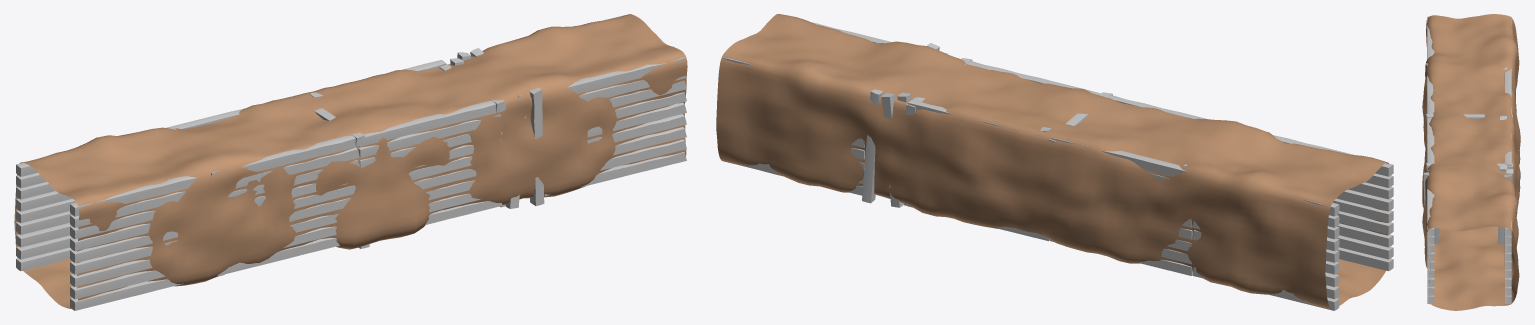
Rendered from asset-v6.fbx.
3 renders of one model, left to right at view 1: azimuth 30°, elevation 25°; view 2: azimuth 150°, elevation 25°; view 3: azimuth 270°, elevation 25°, orthographic. The views are drawn at different scales.
Visible parts, largest first — view 1: Cube, lankku1.018, lankku1.027, lankku1.036, lankku1.017, lankku1.028, lankku1.009, lankku1, lankku1.029, lankku1.032, lankku1.031, lankku1.019 (+28 smaller); view 2: Cube, lankku1.062, lankku1.091, lankku1.029, lankku1.032, lankku1.030, lankku1.028, lankku1.031, lankku1.033, lankku1.018; view 3: Cube, lankku1.018, lankku1.009, lankku1.027, lankku1.062, lankku1.075, lankku1.036, lankku1.074, lankku1.053, lankku1.088, lankku1.076.
Part boxes in pixels (bbox=[...]): Cube: bbox=[14, 14, 687, 308]; lankku1.018: bbox=[359, 100, 502, 146]; lankku1.027: bbox=[241, 135, 359, 171]; lankku1.036: bbox=[70, 176, 197, 216]; lankku1.017: bbox=[358, 114, 500, 158]; lankku1.028: bbox=[70, 279, 183, 310]; lankku1.009: bbox=[566, 57, 684, 93]; lankku1: bbox=[544, 152, 686, 196]; lankku1.029: bbox=[70, 270, 164, 299]; lankku1.032: bbox=[70, 231, 177, 262]; lankku1.031: bbox=[70, 240, 177, 274]; lankku1.019: bbox=[217, 238, 339, 275]; Cube: bbox=[716, 14, 1388, 308]; lankku1.062: bbox=[1051, 137, 1187, 176]; lankku1.091: bbox=[862, 89, 883, 203]; lankku1.029: bbox=[1336, 235, 1393, 259]; lankku1.032: bbox=[1333, 198, 1393, 222]; lankku1.030: bbox=[1337, 223, 1393, 247]; lankku1.028: bbox=[1337, 247, 1393, 271]; lankku1.031: bbox=[1337, 211, 1393, 234]; lankku1.033: bbox=[1336, 189, 1393, 211]; lankku1.018: bbox=[967, 61, 1101, 95]; Cube: bbox=[1422, 14, 1520, 310]; lankku1.018: bbox=[1427, 118, 1434, 162]; lankku1.009: bbox=[1427, 189, 1434, 236]; lankku1.027: bbox=[1427, 75, 1434, 113]; lankku1.062: bbox=[1504, 68, 1511, 114]; lankku1.075: bbox=[1497, 165, 1506, 244]; lankku1.036: bbox=[1427, 16, 1434, 59]; lankku1.074: bbox=[1426, 114, 1512, 120]; lankku1.053: bbox=[1505, 133, 1511, 165]; lankku1.088: bbox=[1423, 172, 1429, 206]; lankku1.076: bbox=[1434, 228, 1439, 243].
Size of what is drawn, in the model's own units: 1173 by 226 by 228.
